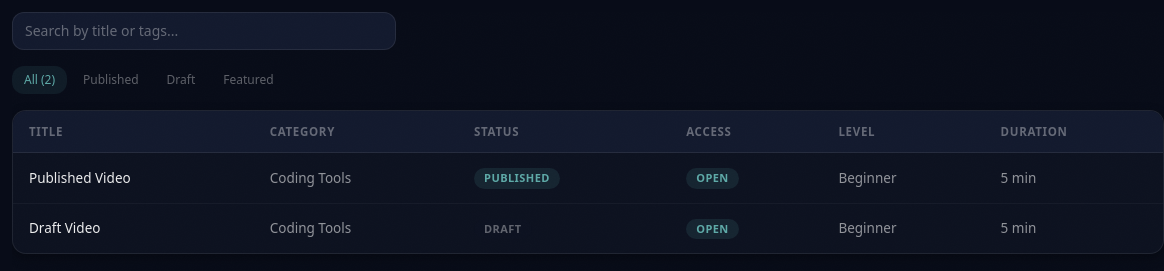
Test case: AdminLibraryList › filters to draft only when draft tab is clicked
This screenshot has width=1164, height=271.
Both the filter button and status badge render 'draft' — target the button
Click the button "draft" at [181, 80], box [155,66,207,94]
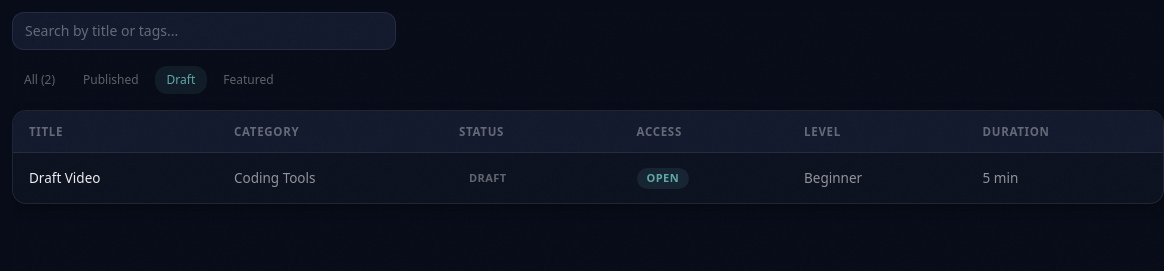
Expected: the text "Draft Video" is shown, [29,169,100,187]
Expected: the text "Published Video" is gone
